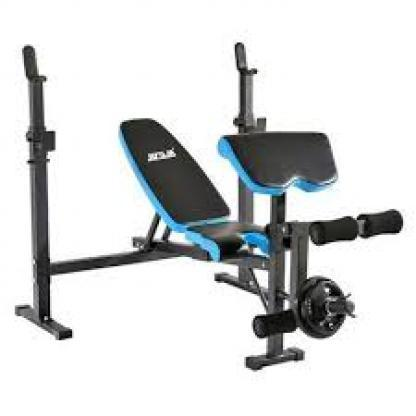arm curl machine: (190, 129, 404, 371)
